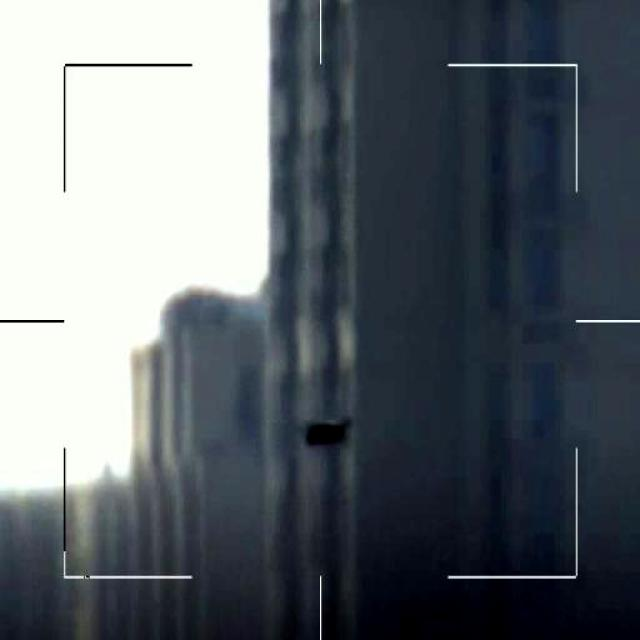bird: (301, 414, 351, 449)
